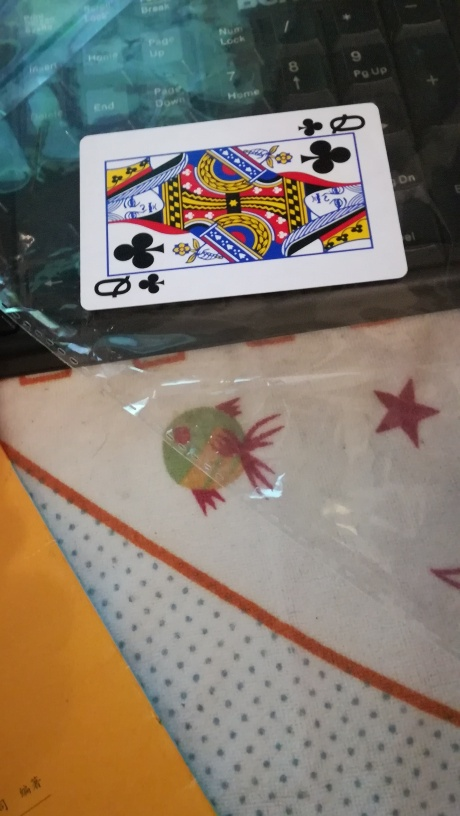mh q: (76, 102, 411, 311)
